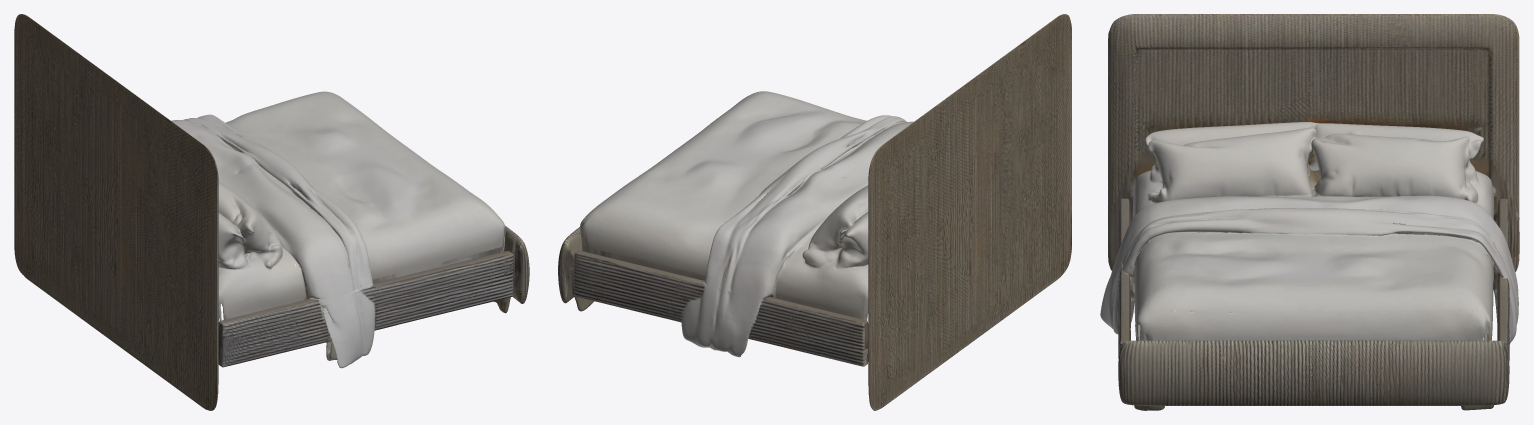
3 renders of one model, left to right at view 1: azimuth 30°, elevation 25°; view 2: azimuth 150°, elevation 25°; view 3: azimuth 270°, elevation 25°, orthographic.
Parts seen in each view (by area): view 1: tripo_node_8e760911-b32c-4f1b-9be6-072f1f0c0014; view 2: tripo_node_8e760911-b32c-4f1b-9be6-072f1f0c0014; view 3: tripo_node_8e760911-b32c-4f1b-9be6-072f1f0c0014.
Boxes of the visible parts, <box> form: tripo_node_8e760911-b32c-4f1b-9be6-072f1f0c0014: <box>14,14,529,410</box>; tripo_node_8e760911-b32c-4f1b-9be6-072f1f0c0014: <box>558,14,1071,410</box>; tripo_node_8e760911-b32c-4f1b-9be6-072f1f0c0014: <box>1100,14,1519,410</box>.
Bounding box in the file's own units: 0.91 × 0.703 × 0.9999.
Materials: 1 (1 with a texture image).
